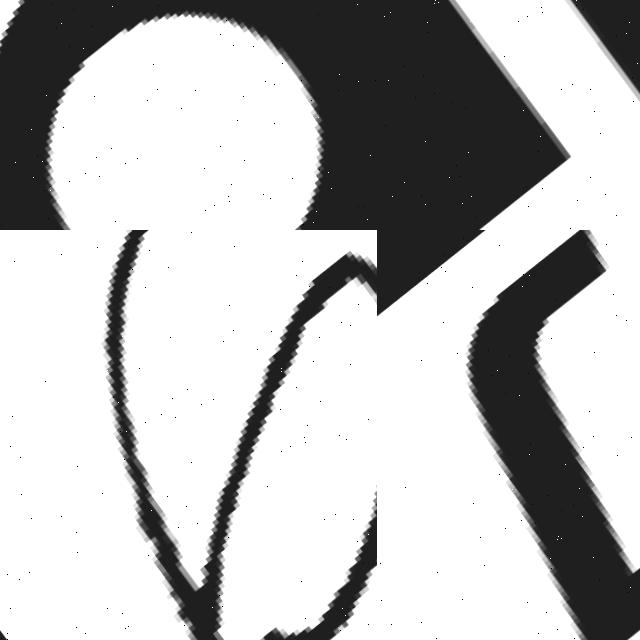A: (0, 0, 377, 230)
G: (0, 230, 377, 640)
J: (377, 230, 640, 640)
U: (377, 0, 640, 230)
